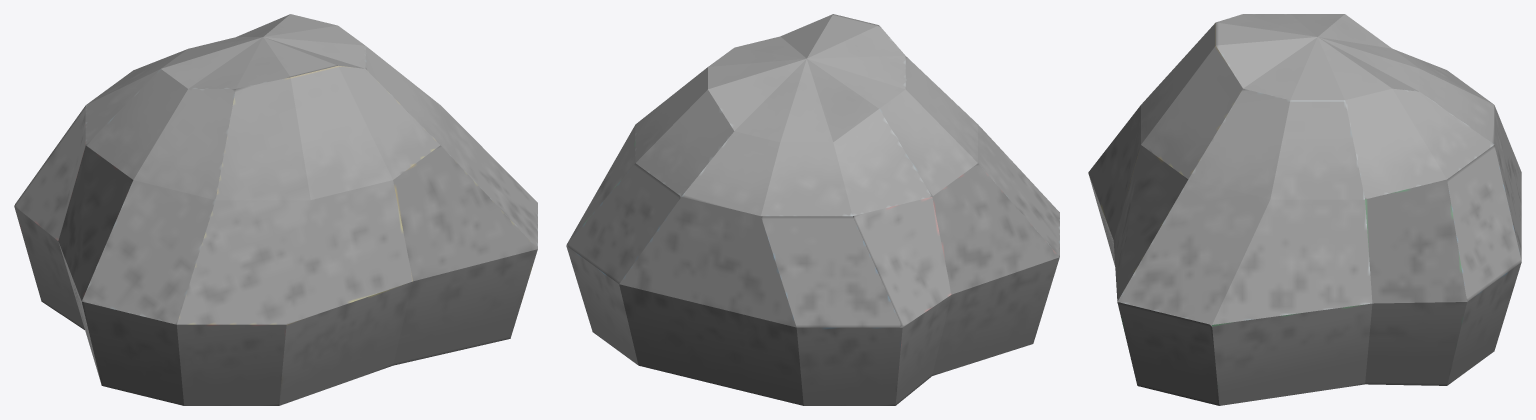
The model's file is Rock1.fbx.
3 views of the same model, side by side, from view 1: azimuth 30°, elevation 25°; view 2: azimuth 150°, elevation 25°; view 3: azimuth 270°, elevation 25° (orthographic). The views are drawn at different scales.
Parts seen in each view (by area): view 1: sphere; view 2: sphere; view 3: sphere.
Boxes of the visible parts, left/top/right/bottom form: sphere: left=14, top=14, right=537, bottom=405; sphere: left=566, top=14, right=1059, bottom=405; sphere: left=1088, top=14, right=1521, bottom=405.
Bounding box in the file's own units: 125 × 74.55 × 106.
Materials: 1 (1 with a texture image).
